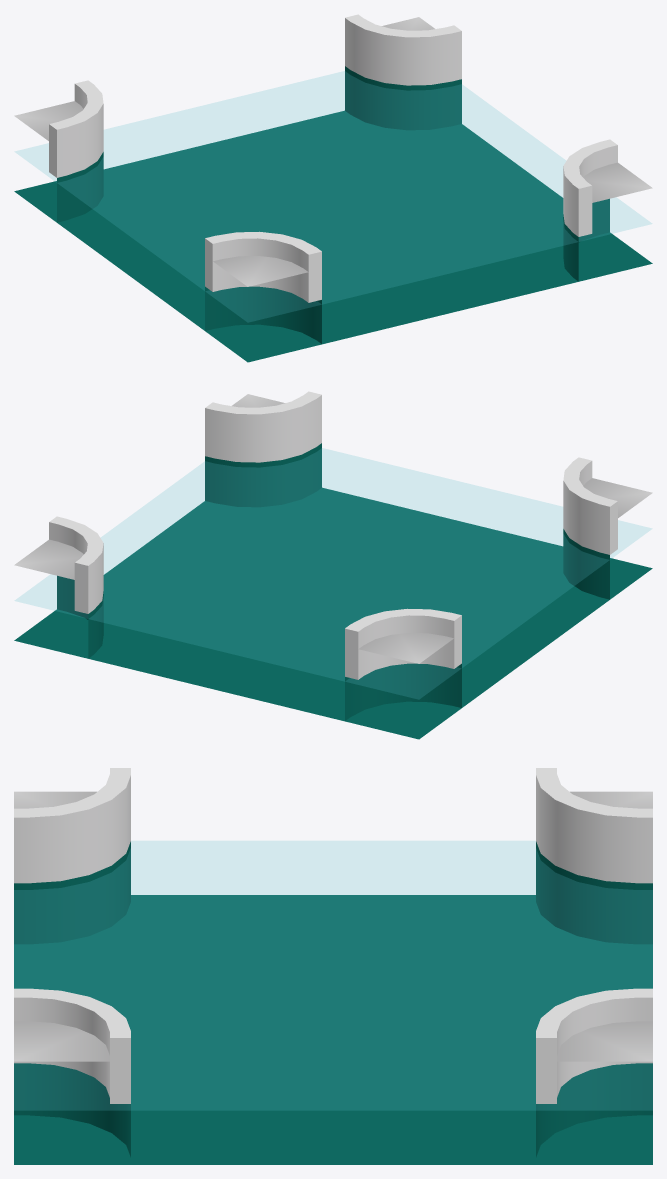
File: Water_14.glb
3 renders of one model, top to bottom at view 1: azimuth 30°, elevation 25°; view 2: azimuth 150°, elevation 25°; view 3: azimuth 270°, elevation 25°, orthographic. The views are drawn at different scales.
Visible parts, largest first — view 1: Water_14; view 2: Water_14; view 3: Water_14.
Part boxes in pixels (x1,y1,x2,y2): Water_14: (14,14,652,362); Water_14: (14,391,652,739); Water_14: (14,768,652,1164).
Bounding box in the file's own units: 15 × 3.29 × 15.
2 materials, 2 textured.
